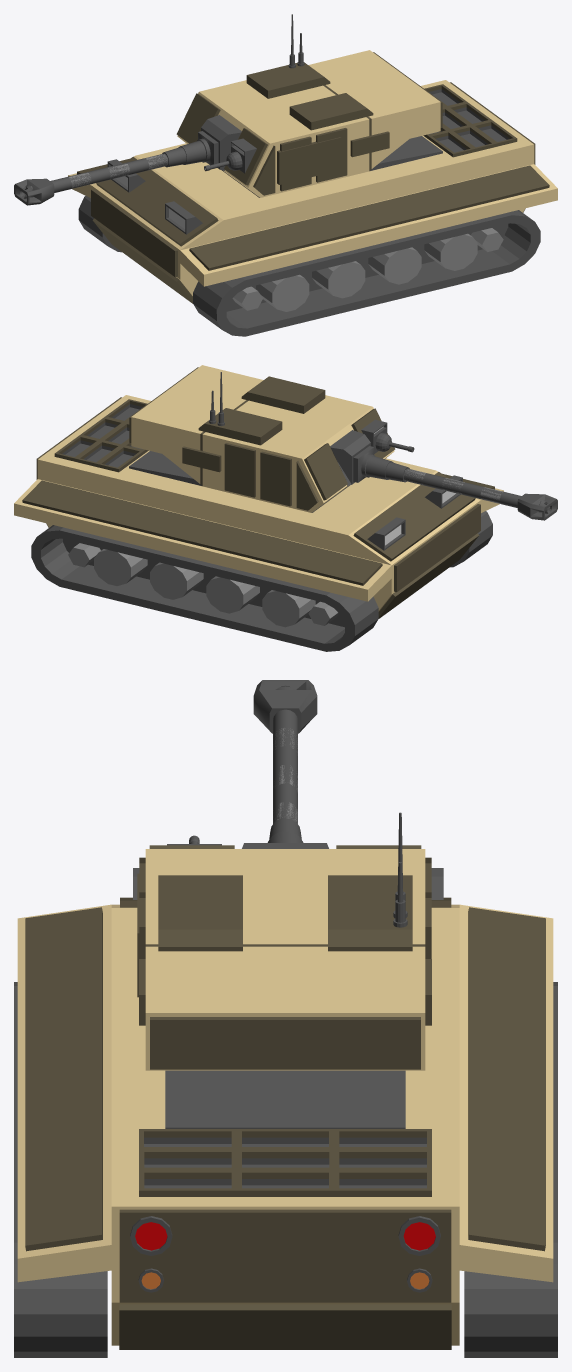
Rendered from tank_desert_tier1-3.fbx.
3 views of the same model, one above another, from view 1: azimuth 30°, elevation 25°; view 2: azimuth 150°, elevation 25°; view 3: azimuth 270°, elevation 25° (orthographic). The views are drawn at different scales.
Visible parts, largest first — view 1: body_1, wheel, head_1, body_3, body_2, gun_1, head_3, head_2, gun_2, gun_3; view 2: body_1, wheel, head_1, body_3, body_2, head_3, gun_1, gun_2, gun_3; view 3: body_1, head_1, body_3, body_2, wheel, gun_1, gun_3, head_3, gun_2.
Part boxes in pixels (<box>): body_1: <box>68,80,557,303</box>; wheel: <box>78,195,540,336</box>; head_1: <box>176,14,442,197</box>; body_3: <box>77,165,549,270</box>; body_2: <box>81,158,545,268</box>; gun_1: <box>20,115,241,198</box>; head_3: <box>204,119,369,197</box>; head_2: <box>277,137,341,184</box>; gun_2: <box>31,154,167,192</box>; gun_3: <box>14,178,54,205</box>; body_1: <box>14,395,503,618</box>; wheel: <box>31,511,492,651</box>; head_1: <box>129,365,395,512</box>; body_3: <box>22,473,494,585</box>; body_2: <box>26,481,378,584</box>; head_3: <box>224,407,414,510</box>; gun_1: <box>330,430,551,513</box>; gun_2: <box>403,469,518,507</box>; gun_3: <box>517,493,557,520</box>; body_1: <box>17,868,553,1349</box>; head_1: <box>139,812,431,1070</box>; body_3: <box>25,907,545,1251</box>; body_2: <box>25,911,545,1240</box>; wheel: <box>14,982,557,1357</box>; gun_1: <box>242,685,328,848</box>; gun_3: <box>253,680,317,733</box>; head_3: <box>139,835,431,958</box>; gun_2: <box>273,710,297,823</box>.
Size of the model in its own units: 1526 by 662 by 770.
